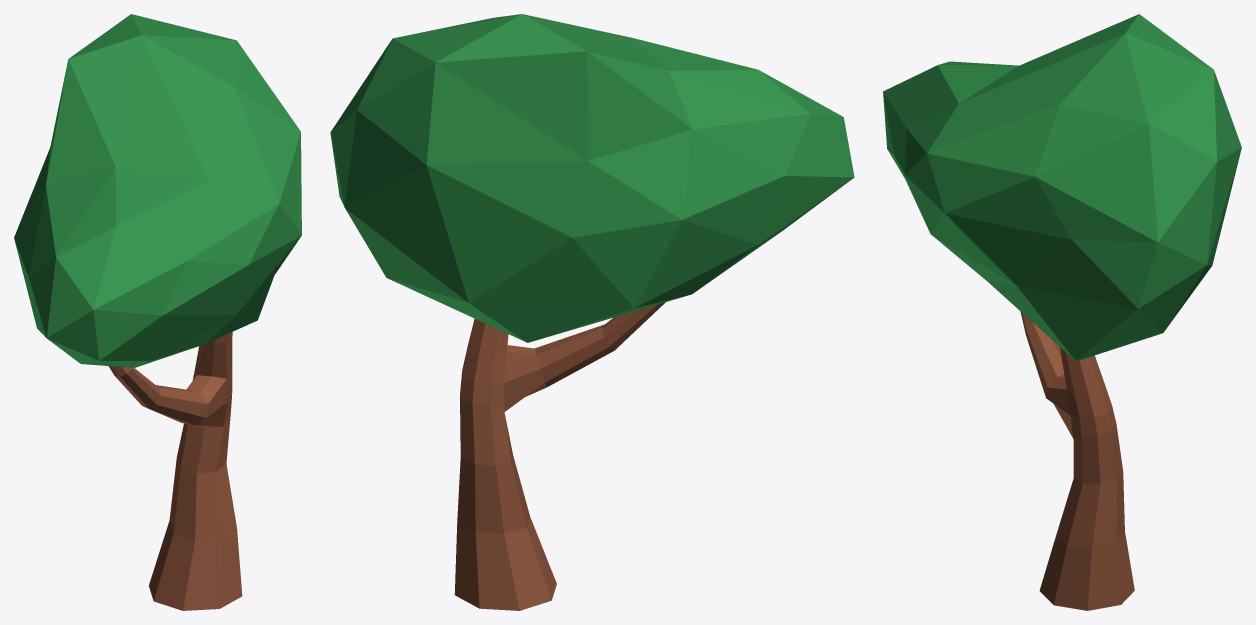
Rendered from дерево-3.fbx.
3 renders of one model, left to right at view 1: azimuth 30°, elevation 25°; view 2: azimuth 150°, elevation 25°; view 3: azimuth 270°, elevation 25°, orthographic. The views are drawn at different scales.
Visible parts, largest first — view 1: Дерево простое; view 2: Дерево простое; view 3: Дерево простое.
Part boxes in pixels (<box>): Дерево простое: <box>14,14,301,610</box>; Дерево простое: <box>330,14,854,610</box>; Дерево простое: <box>883,14,1241,610</box>.
Bounding box in the file's own units: 4.16 × 6.06 × 3.64.
